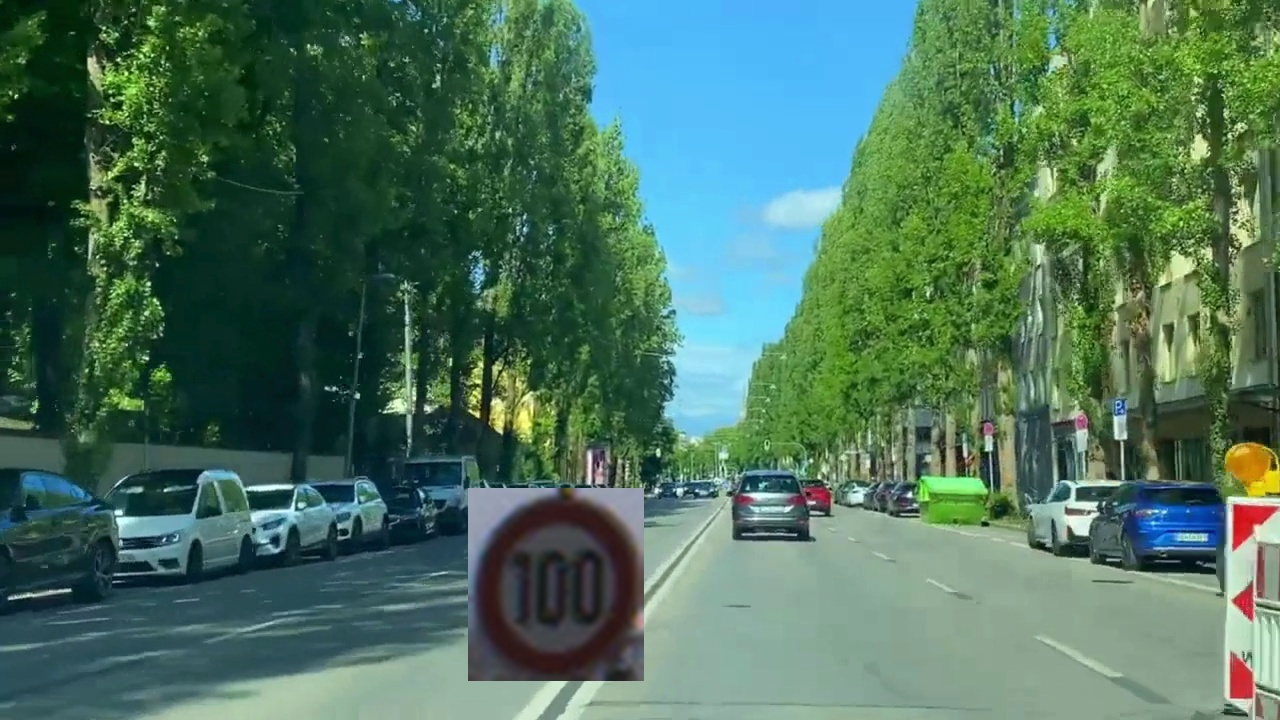Speed 100: (468, 488, 644, 681)
